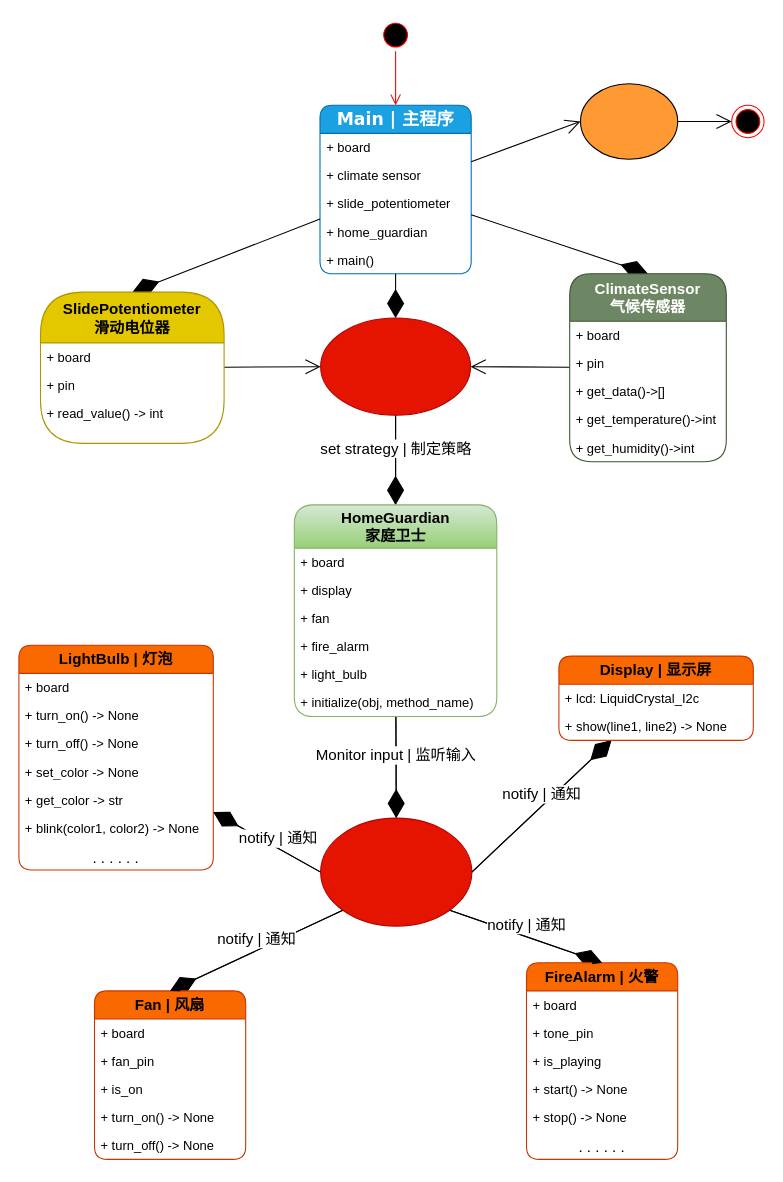
Some shapes in this 783 by 1182 pixel diagram are drawn without their labels. The shapes that lost their labels are listed below. From the top down, each one's centre as x and y in pixels, then its label:
(628,121): STOP
(395,366): Strategy Pattern 策略模式
(396,871): Observer Pattern 观察者模式
